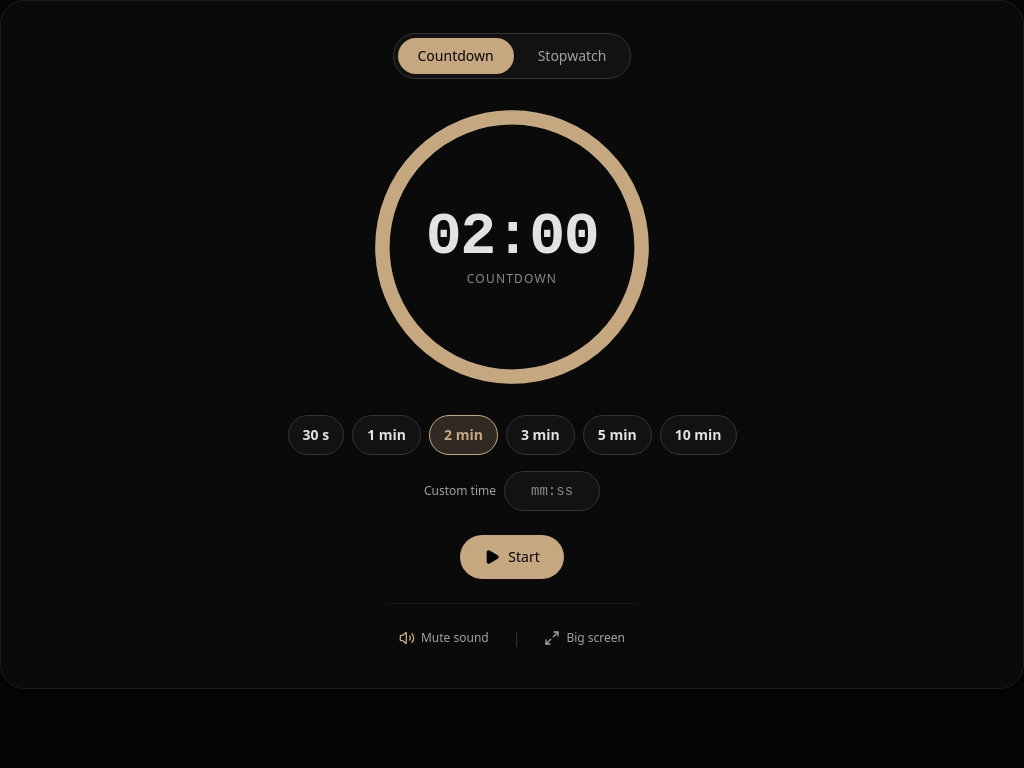
Test: ClassroomTimer (SDD/2026-10-03_05-cronometro-visual.md) › CT03 / CA03: adds 30 s to a 00:40 countdown becoming 01:10 without restarting
Note: Start with 1 min (01:00)
Click the button "1 min".
click(387, 435)  # box left=352, top=415, right=421, bottom=455
Wait 20000 ms
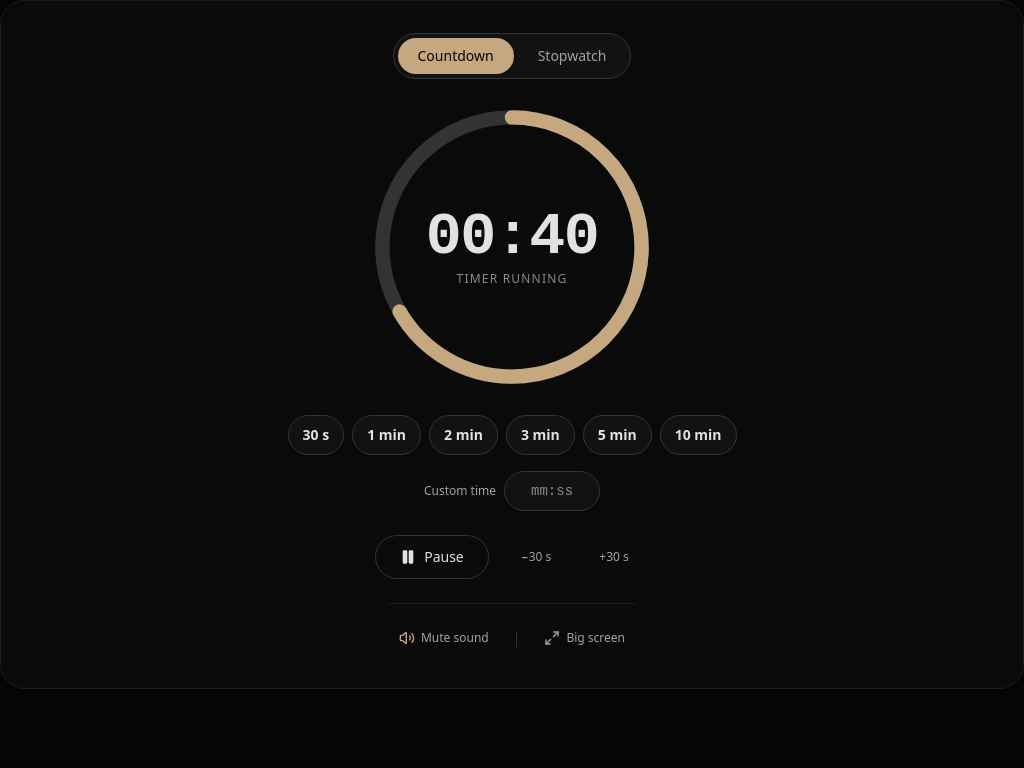
Now the text "00:40" is shown, box left=426, top=207, right=598, bottom=267
Note: Click +30 s
Click the button "+30 s".
click(614, 557)  # box left=579, top=535, right=649, bottom=579
Wait 1000 ms
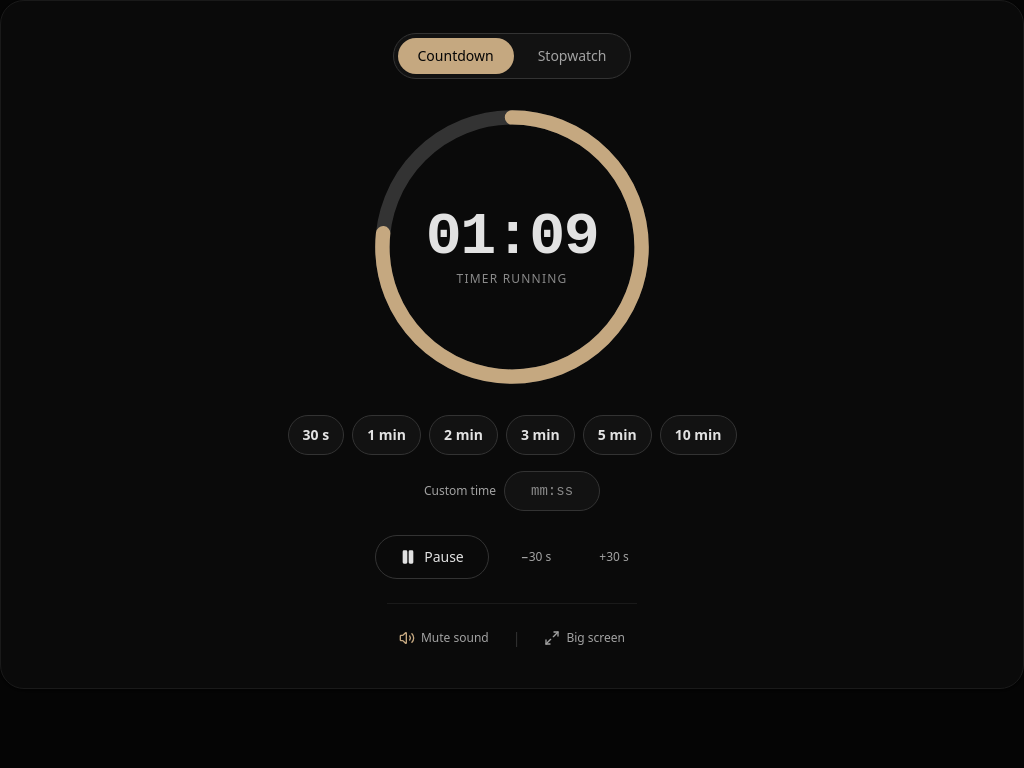
Now the text "01:09" is shown, box left=426, top=207, right=598, bottom=267
Note: Click -30 s
Click the button "−30 s".
click(536, 557)  # box left=501, top=535, right=571, bottom=579
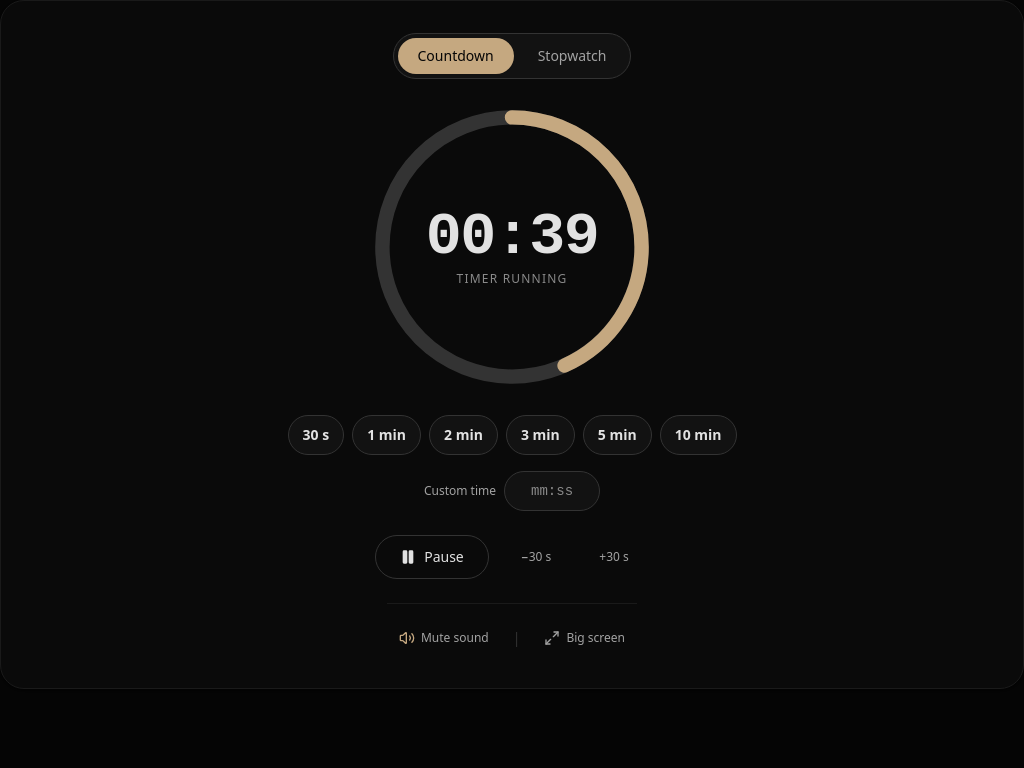
Now the text "00:39" is shown, box left=426, top=207, right=598, bottom=267
